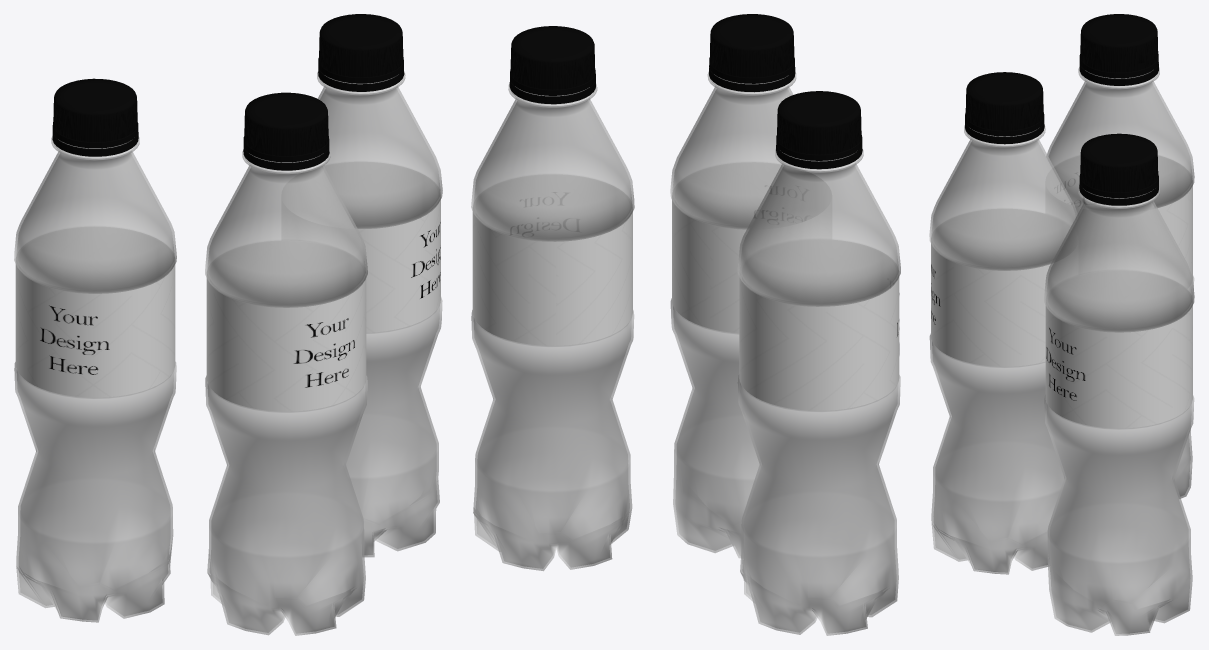
Rendered from Soft Drinks A-5.glb.
3 renders of one model, left to right at view 1: azimuth 30°, elevation 25°; view 2: azimuth 150°, elevation 25°; view 3: azimuth 270°, elevation 25°, orthographic. The views are drawn at different scales.
Parts seen in each view (by area): view 1: Bottle_Bottle.001_Cylinder.008, Bottle_Bottle.001_Cylinder.001, Bottle_Bottle.001_Cylinder.002, Label_Bottle.001_Cylinder.001, Label_Bottle.001_Cylinder.007, Label_Bottle.001_Cylinder.002, Plastic_Neck_Bottle.001_Cylinder.001, Plastic_Neck_Bottle.001_Cylinder.006, Plastic_Neck_Bottle.001_Cylinder.002; view 2: Bottle_Bottle.001_Cylinder.008, Bottle_Bottle.001_Cylinder.002, Bottle_Bottle.001_Cylinder.001, Label_Bottle.001_Cylinder.007, Label_Bottle.001_Cylinder.002, Label_Bottle.001_Cylinder.001, Plastic_Neck_Bottle.001_Cylinder.006, Plastic_Neck_Bottle.001_Cylinder.002, Plastic_Neck_Bottle.001_Cylinder.001; view 3: Bottle_Bottle.001_Cylinder.002, Bottle_Bottle.001_Cylinder.001, Label_Bottle.001_Cylinder.002, Label_Bottle.001_Cylinder.001, Bottle_Bottle.001_Cylinder.008, Plastic_Neck_Bottle.001_Cylinder.002, Plastic_Neck_Bottle.001_Cylinder.001, Plastic_Neck_Bottle.001_Cylinder.006, Label_Bottle.001_Cylinder.007.
Part boxes in pixels (x1=…): Bottle_Bottle.001_Cylinder.008: x1=14, y1=136, x2=176, y2=622; Bottle_Bottle.001_Cylinder.001: x1=205, y1=150, x2=367, y2=635; Bottle_Bottle.001_Cylinder.002: x1=317, y1=71, x2=442, y2=557; Label_Bottle.001_Cylinder.001: x1=206, y1=271, x2=366, y2=411; Label_Bottle.001_Cylinder.007: x1=15, y1=257, x2=175, y2=397; Label_Bottle.001_Cylinder.002: x1=355, y1=192, x2=440, y2=332; Plastic_Neck_Bottle.001_Cylinder.001: x1=243, y1=92, x2=329, y2=170; Plastic_Neck_Bottle.001_Cylinder.006: x1=52, y1=78, x2=138, y2=156; Plastic_Neck_Bottle.001_Cylinder.002: x1=318, y1=14, x2=404, y2=91; Bottle_Bottle.001_Cylinder.008: x1=737, y1=149, x2=900, y2=635; Bottle_Bottle.001_Cylinder.002: x1=471, y1=84, x2=634, y2=570; Bottle_Bottle.001_Cylinder.001: x1=670, y1=72, x2=796, y2=558; Label_Bottle.001_Cylinder.007: x1=739, y1=270, x2=899, y2=410; Label_Bottle.001_Cylinder.002: x1=472, y1=205, x2=632, y2=345; Label_Bottle.001_Cylinder.001: x1=672, y1=193, x2=749, y2=333; Plastic_Neck_Bottle.001_Cylinder.006: x1=776, y1=91, x2=862, y2=169; Plastic_Neck_Bottle.001_Cylinder.002: x1=509, y1=26, x2=595, y2=104; Plastic_Neck_Bottle.001_Cylinder.001: x1=709, y1=14, x2=795, y2=92; Bottle_Bottle.001_Cylinder.002: x1=1044, y1=187, x2=1194, y2=635; Bottle_Bottle.001_Cylinder.001: x1=929, y1=125, x2=1077, y2=574; Label_Bottle.001_Cylinder.002: x1=1045, y1=298, x2=1192, y2=428; Label_Bottle.001_Cylinder.001: x1=931, y1=237, x2=1053, y2=366; Bottle_Bottle.001_Cylinder.008: x1=1046, y1=67, x2=1194, y2=498; Plastic_Neck_Bottle.001_Cylinder.002: x1=1079, y1=133, x2=1158, y2=205; Plastic_Neck_Bottle.001_Cylinder.001: x1=965, y1=72, x2=1044, y2=144; Plastic_Neck_Bottle.001_Cylinder.006: x1=1079, y1=14, x2=1158, y2=85; Label_Bottle.001_Cylinder.007: x1=1072, y1=178, x2=1192, y2=282.
Size of the model in its own units: 1.94 by 2.29 by 1.18.
Materials: 3 (1 with a texture image).
